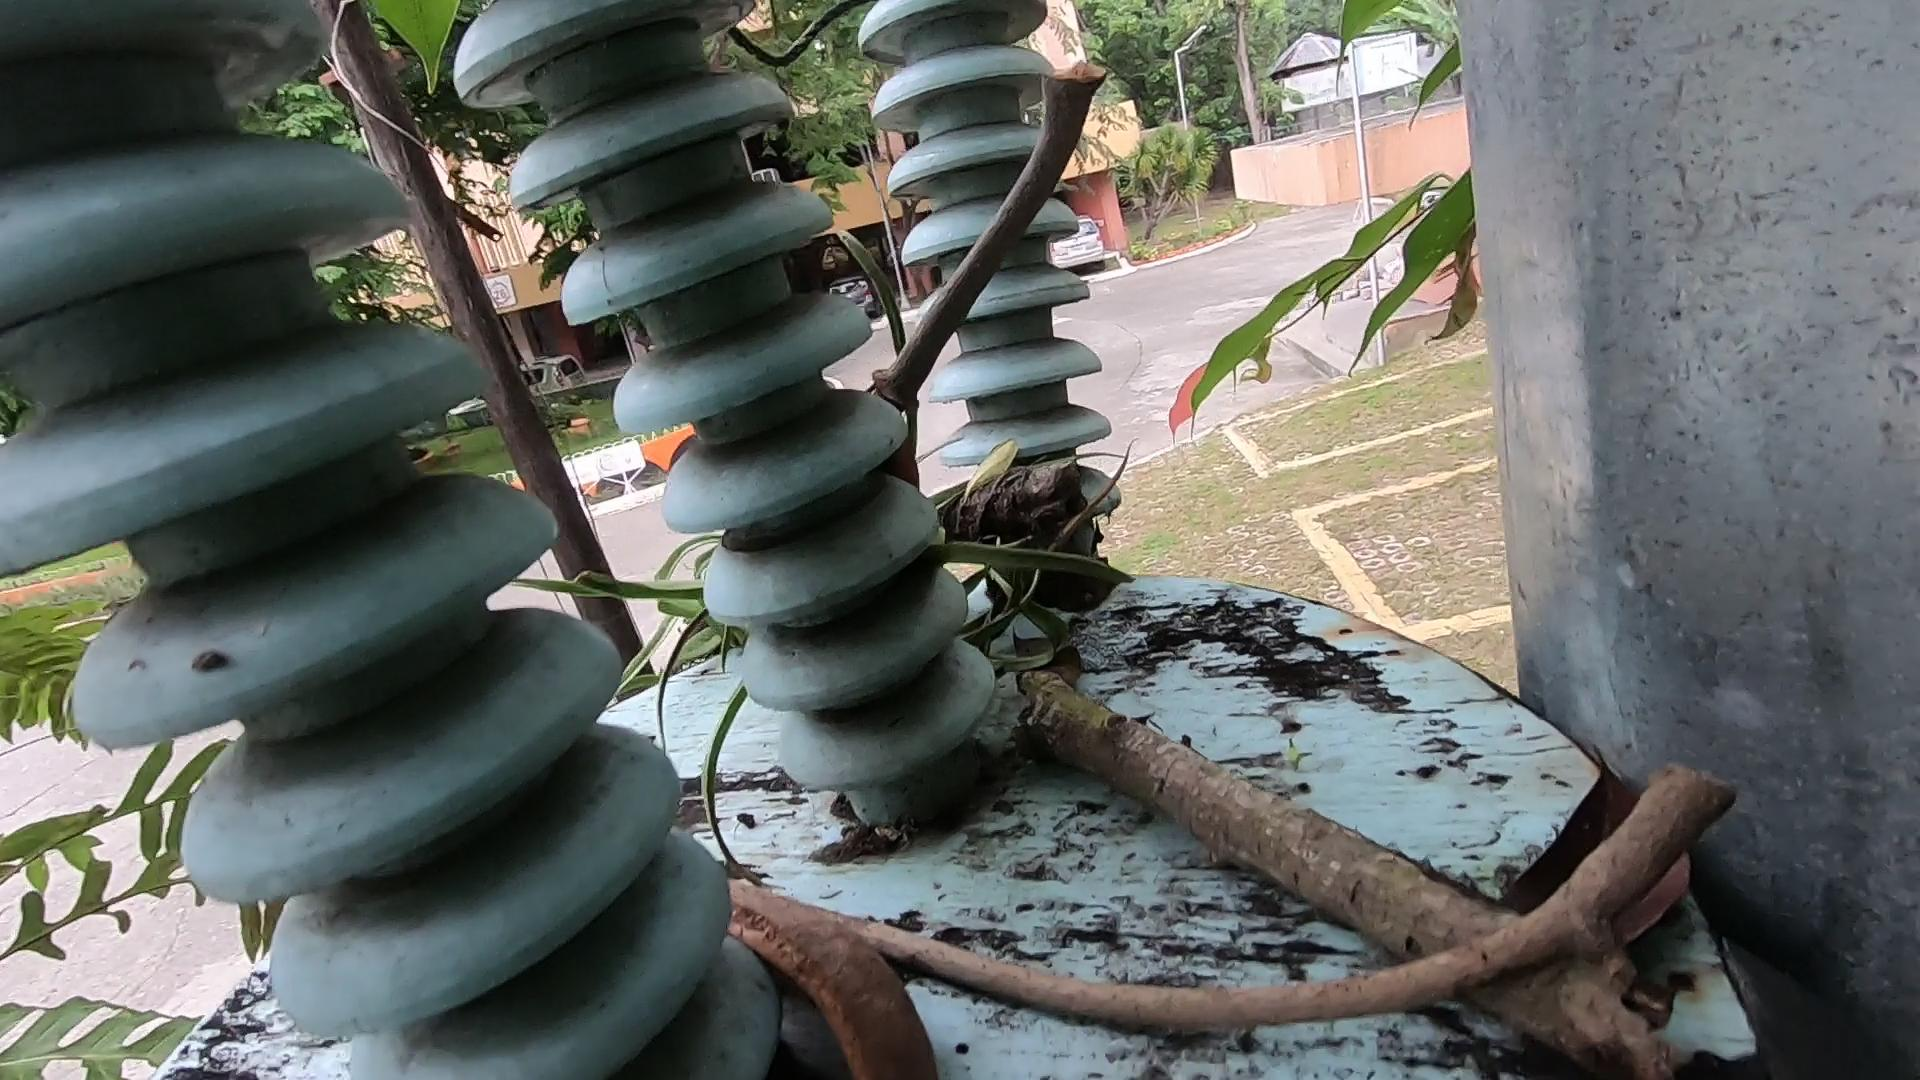branch with leaves: (843, 384, 1687, 1080)
tree branch: (814, 721, 1749, 1048), (858, 17, 1170, 495)
